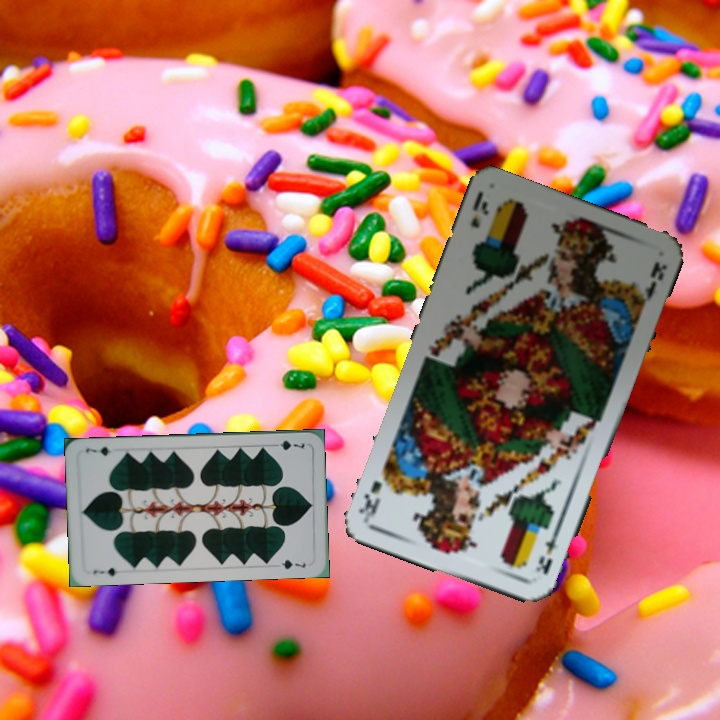EK: (532, 526, 563, 578), (466, 188, 492, 231)
G7: (268, 437, 307, 452), (89, 564, 119, 579)
